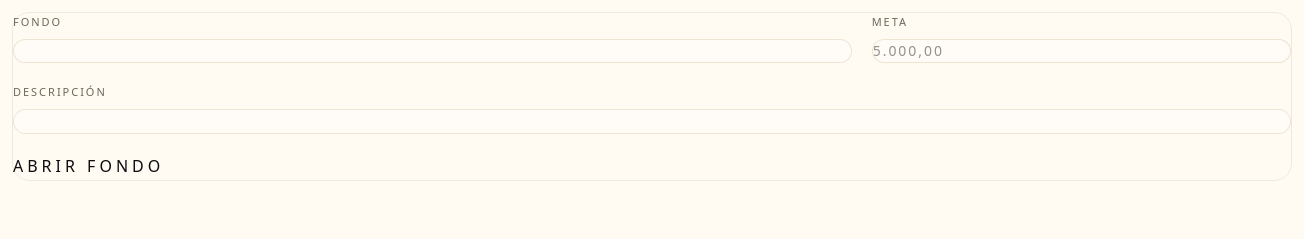
Test: FundForm › enseña el error del servidor
Type "100" into the field labelled "Meta". click: {"x": 1081, "y": 51}
box: [872,39,1291,64]
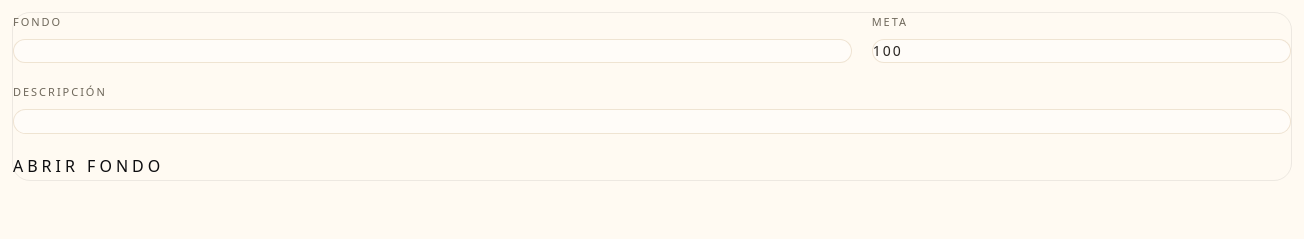
Click the button "Abrir fondo". click: {"x": 89, "y": 167}
box: [13,154,164,180]
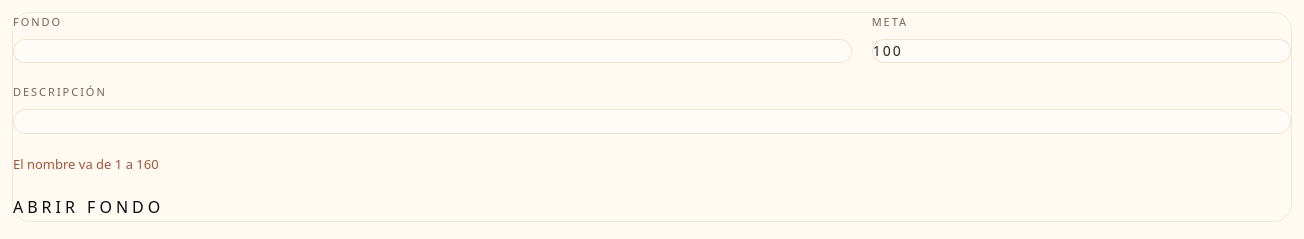
Expected: the message reads "El nombre va de 1 a 160", [13,155,159,173]
